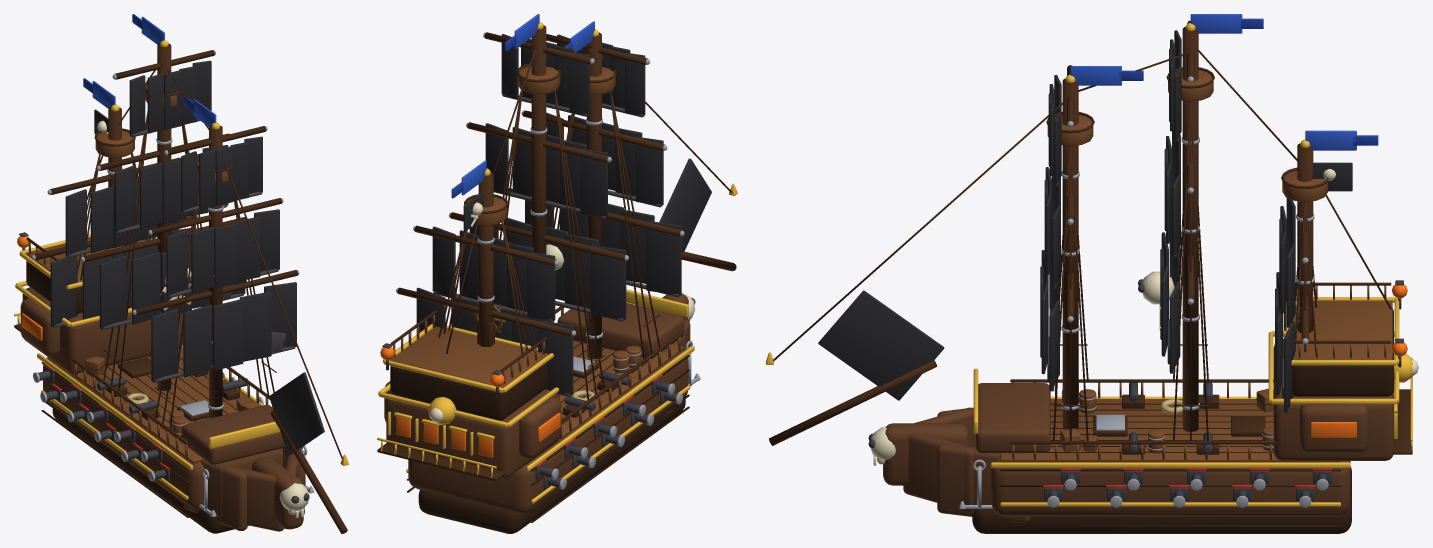
The model's file is Galleon.glb.
3 renders of one model, left to right at view 1: azimuth 30°, elevation 25°; view 2: azimuth 150°, elevation 25°; view 3: azimuth 270°, elevation 25°, orthographic. The views are drawn at different scales.
Visible parts, largest first — view 1: Galleon; view 2: Galleon; view 3: Galleon.
Part boxes in pixels (bbox=[...]): Galleon: bbox=[14, 14, 348, 533]; Galleon: bbox=[377, 14, 737, 533]; Galleon: bbox=[766, 14, 1418, 533].
Bounding box in the file's own units: 7.83 × 19.17 × 22.81.
